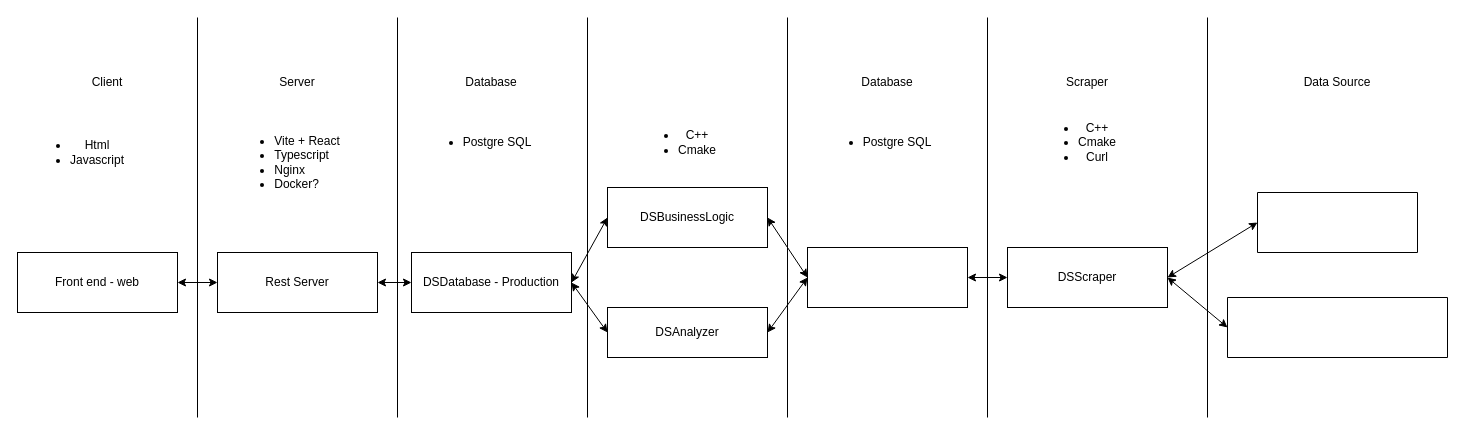
Image size: 1465x436. Some labels were removed from this diagram. Each missing label, with the centre of its shape:
"DSDatabase - Internal" goes at pixel 887 277.
"Čsts Api: https://www.csts.cz/api/1/" goes at pixel 1337 222.
"Čsts stránky: https://www.csts.cz/cs/vysledkysoutezi" goes at pixel 1337 327.
